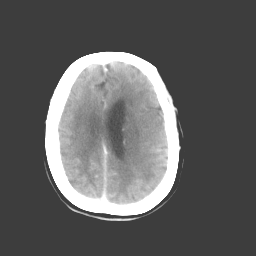ischemic: (125, 92, 156, 154)
